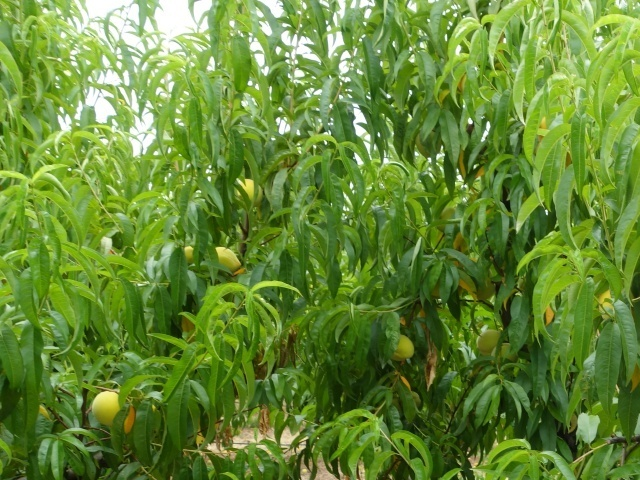peach: (86, 389, 128, 427), (209, 243, 243, 277), (237, 174, 268, 210), (385, 332, 418, 365), (470, 327, 505, 354), (485, 338, 510, 365)
